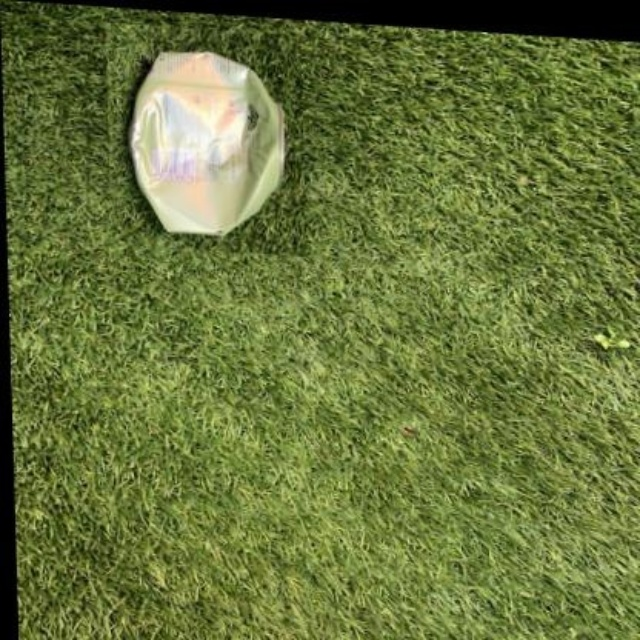trash: (131, 52, 283, 234)
